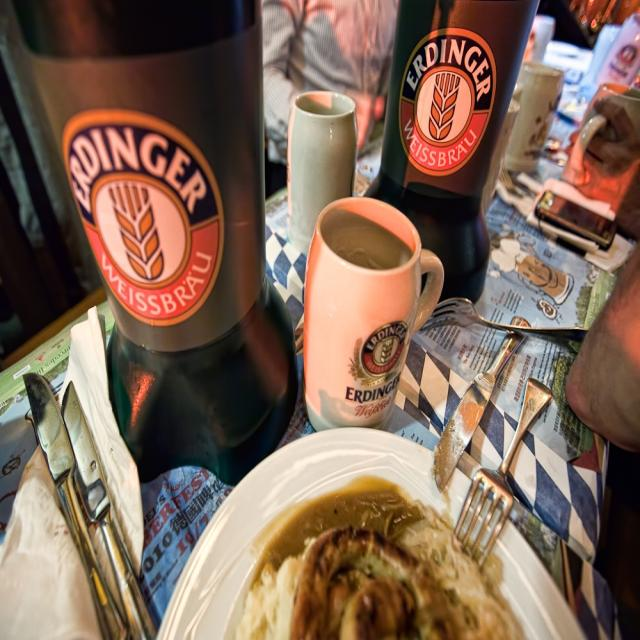erdinger: (66, 108, 230, 339), (395, 19, 504, 184), (343, 318, 412, 406)
